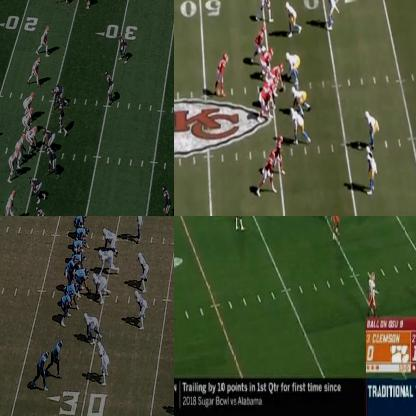CENTER: (28, 124, 40, 152), (79, 265, 90, 295), (270, 63, 284, 85)
DB: (368, 147, 377, 193), (367, 271, 375, 311), (163, 185, 173, 215), (118, 34, 129, 60), (132, 216, 141, 243), (234, 216, 246, 231), (83, 0, 93, 10), (35, 207, 47, 215)
LB: (136, 289, 147, 327), (98, 342, 107, 386), (324, 0, 337, 29), (368, 111, 378, 146), (47, 146, 58, 177), (140, 253, 149, 288), (58, 96, 66, 135), (331, 216, 341, 242), (106, 70, 115, 98)
QB: (214, 52, 229, 97), (66, 255, 78, 282)
SKILL: (260, 153, 274, 194), (33, 352, 48, 387), (273, 132, 284, 174), (38, 25, 52, 55), (28, 56, 41, 85), (53, 338, 62, 376), (4, 192, 18, 215), (76, 228, 91, 248), (262, 0, 275, 18), (74, 216, 88, 226)
